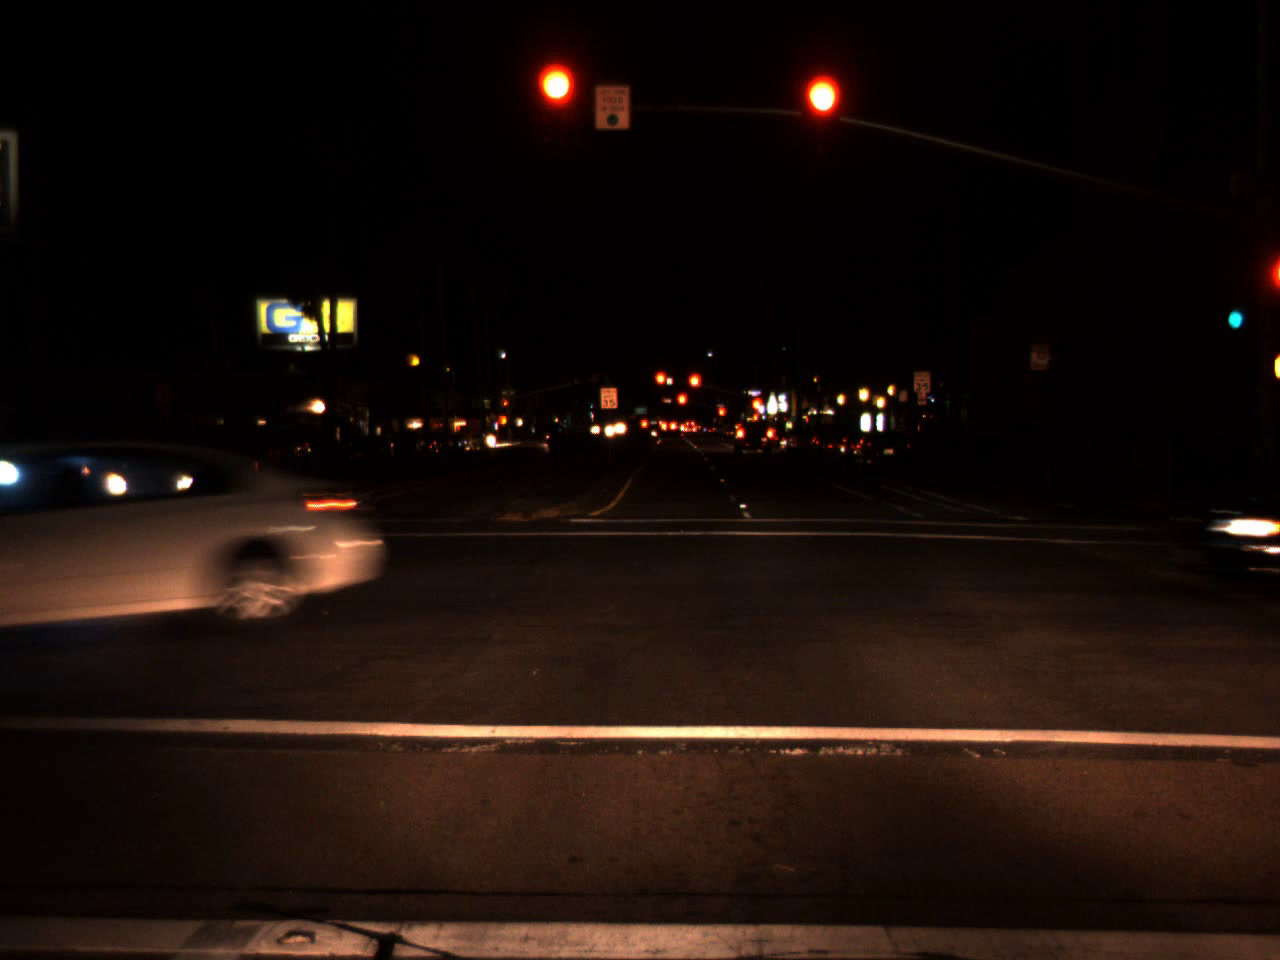stop: (538, 65, 578, 143), (801, 75, 841, 153), (686, 371, 702, 403), (653, 369, 668, 401), (675, 391, 688, 418), (750, 396, 763, 412), (717, 406, 726, 427), (503, 399, 509, 412)
